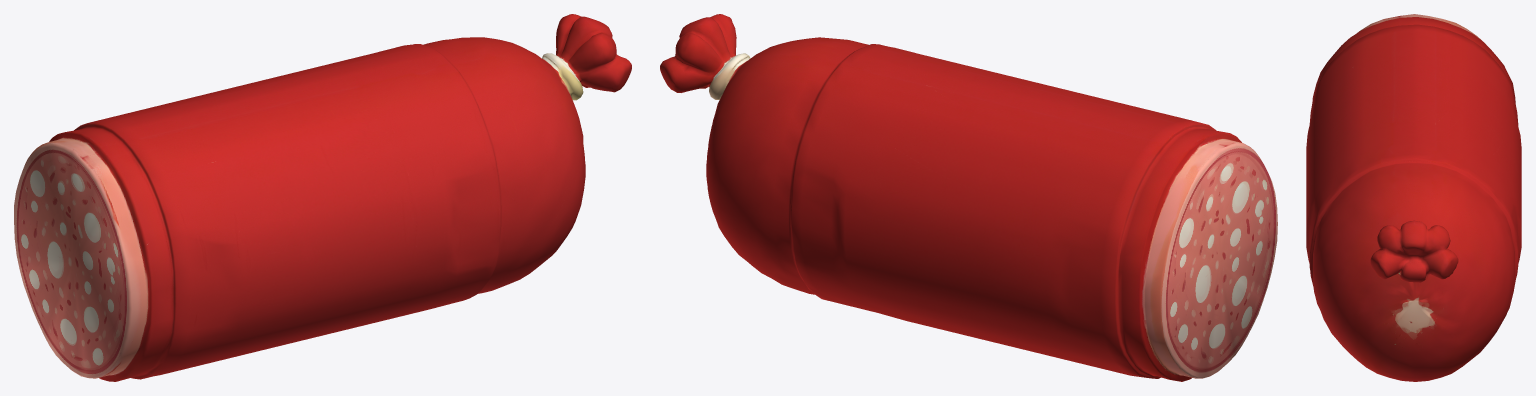
Rendered from sausage.fbx.
The picture shows the model from 3 angles, left to right: view 1: azimuth 30°, elevation 25°; view 2: azimuth 150°, elevation 25°; view 3: azimuth 270°, elevation 25°; orthographic projection. The views are drawn at different scales.
Visible parts, largest first — view 1: Mesh_0.001; view 2: Mesh_0.001; view 3: Mesh_0.001.
Part boxes in pixels (bbox=[...]): Mesh_0.001: bbox=[14, 14, 631, 381]; Mesh_0.001: bbox=[660, 14, 1277, 381]; Mesh_0.001: bbox=[1306, 14, 1521, 381].
Size of the model in its own units: 38.12 by 16.05 by 15.42.
1 material, 1 textured.
